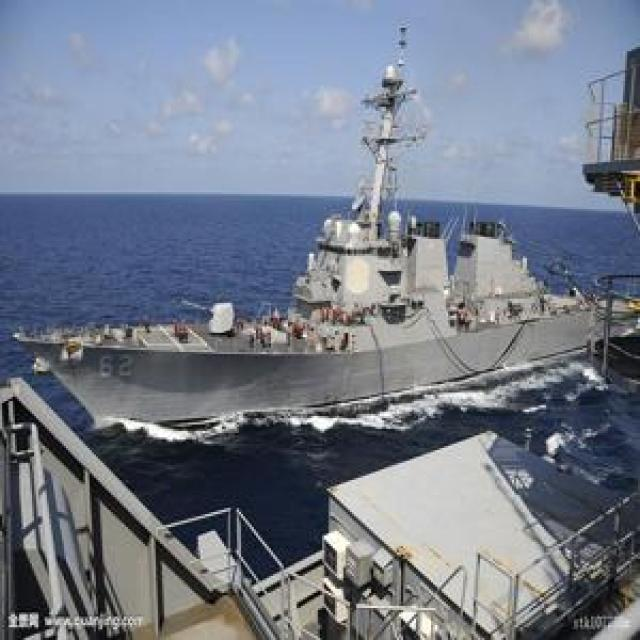navalvessels: (21, 46, 609, 414)
